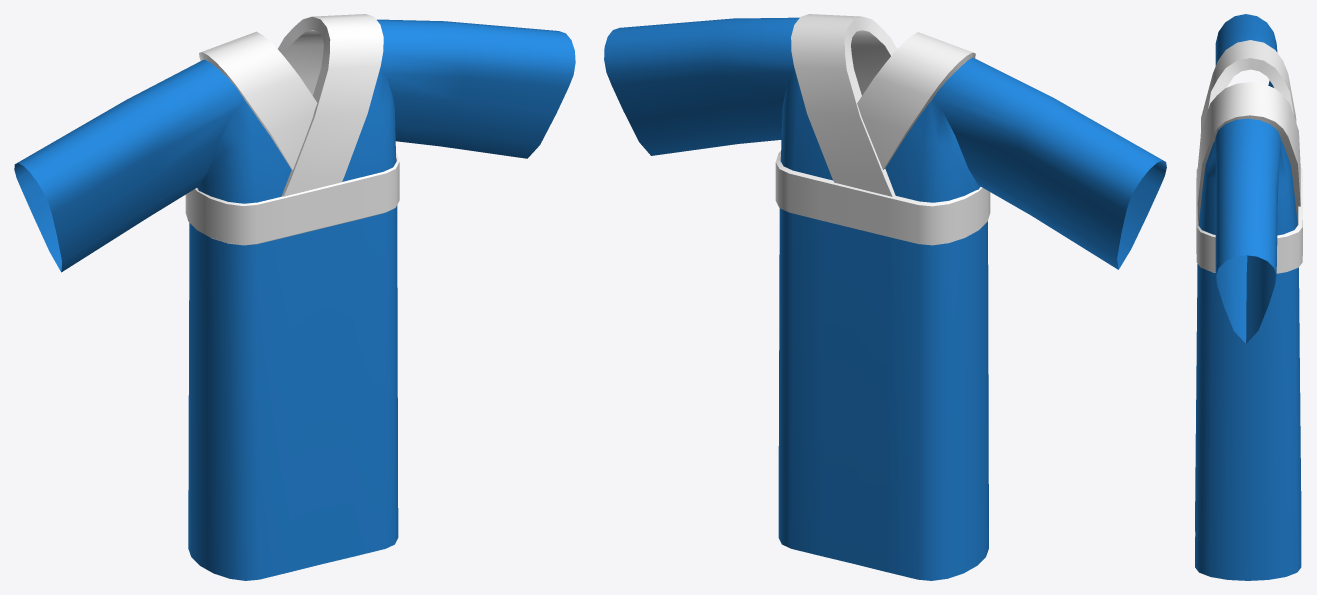
File: Kimono.gltf
3 views of the same model, side by side, from view 1: azimuth 30°, elevation 25°; view 2: azimuth 150°, elevation 25°; view 3: azimuth 270°, elevation 25° (orthographic). The views are drawn at different scales.
Parts seen in each view (by area): view 1: Circle.1797; view 2: Circle.1797; view 3: Circle.1797.
Boxes of the visible parts, x1=… form: Circle.1797: x1=14, y1=14, x2=575, y2=580; Circle.1797: x1=604, y1=14, x2=1166, y2=580; Circle.1797: x1=1195, y1=14, x2=1302, y2=580.
Size of the model in its own units: 2.35 by 2.13 by 0.4443.
1 material, 1 textured.
